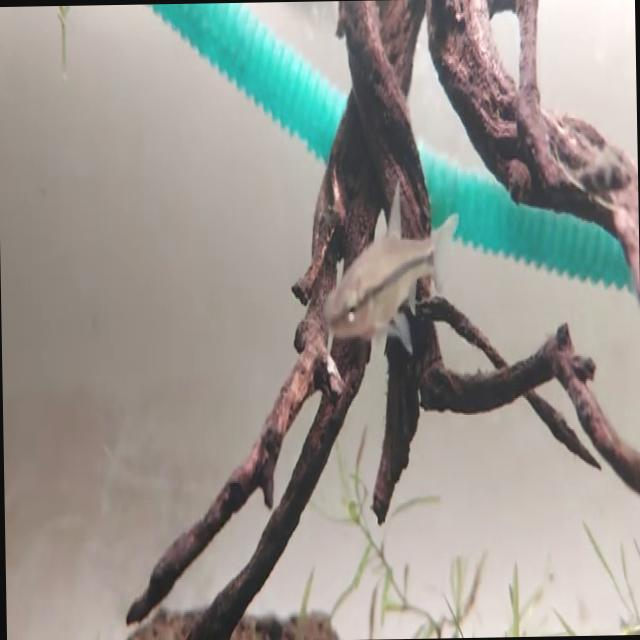Cakil Baligi: (319, 182, 466, 347)
